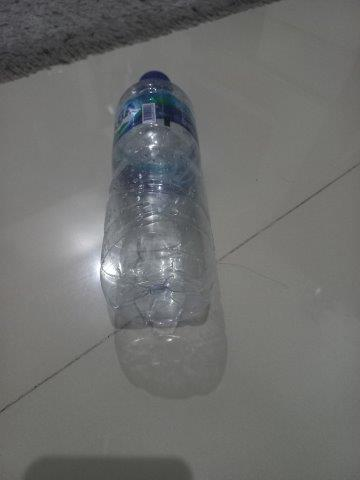botolplastik: (94, 70, 209, 328)
